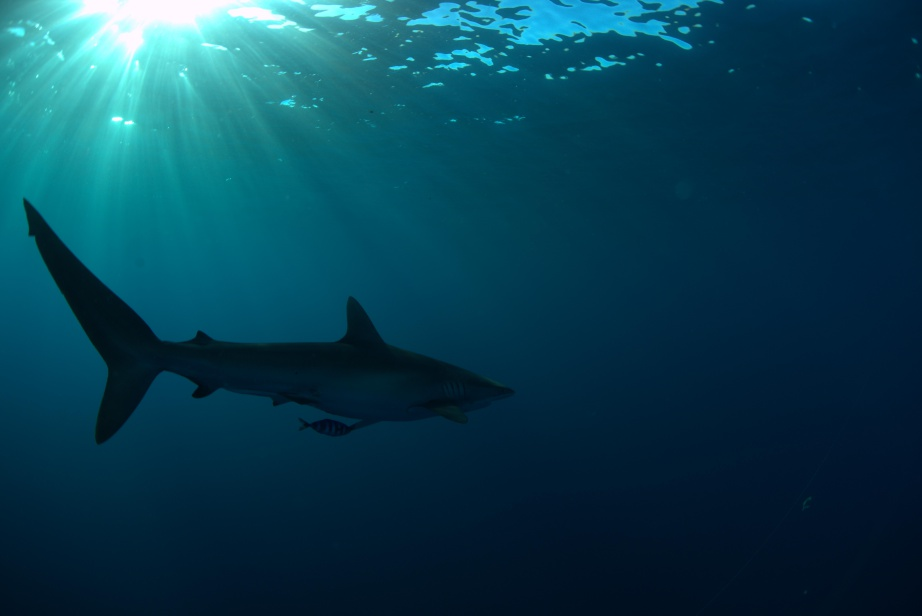Sedoso: (12, 185, 540, 454)
